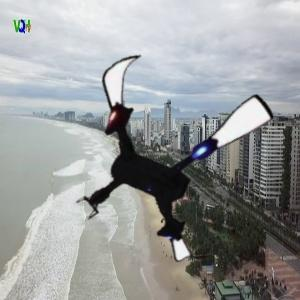drone: (62, 42, 286, 266)
